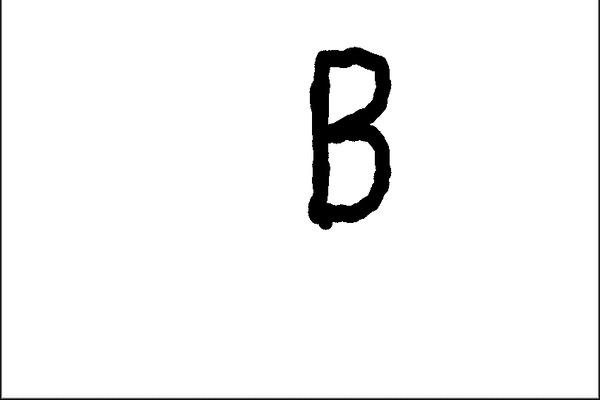B: (301, 40, 394, 231)
